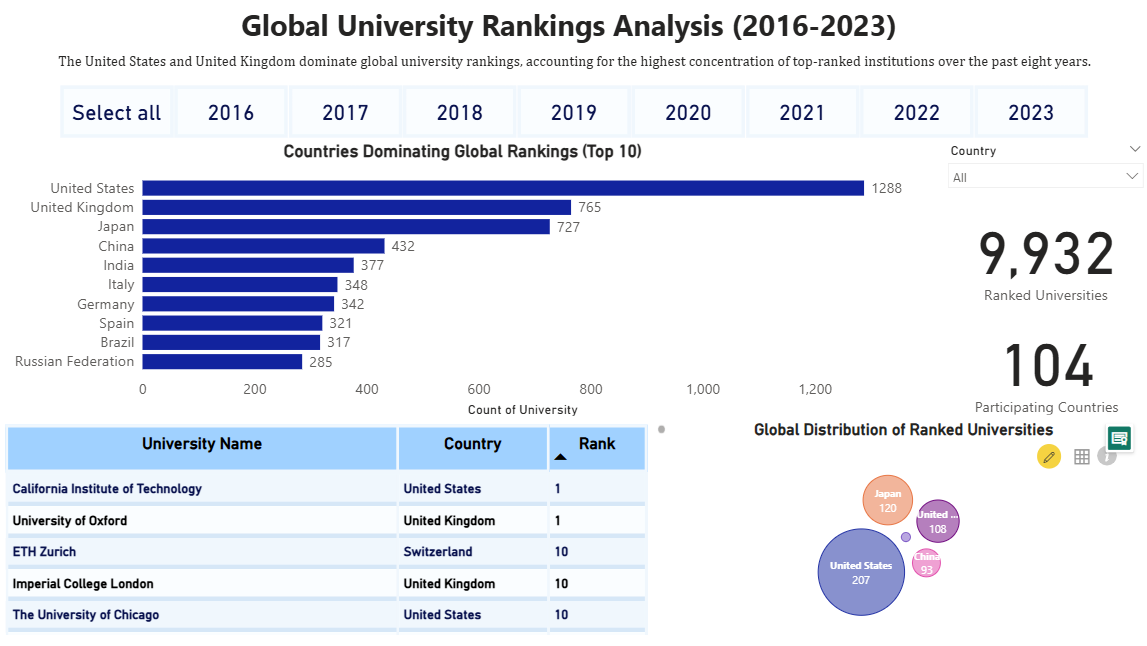

The page's visual inventory and layout, read from the dashboard file:
{"tool":"powerbi","page":{"name":"Overview","canvas":[1280,720],"ordinal":1},"visuals":[{"type":"advancedSlicerVisual","fields":{"Values":["CLEANED DATA.year"]},"box":[52.5,74.8,1173.9,98.6],"z":0},{"type":"tableEx","fields":{"Values":["CLEANED DATA.name","CLEANED DATA.location","CLEANED DATA.rank"]},"box":[0,466,744.4,243.4],"z":1000},{"type":"card","fields":{"Values":["CLEANED DATA.Ranked Universities"]},"box":[1043.4,216.3,237,130.4],"z":2000},{"type":"card","fields":{"Values":["CLEANED DATA.Participating Countries"]},"box":[1045,346.8,235.4,119.3],"z":3000},{"type":"slicer","fields":{"Values":["CLEANED DATA.location"]},"box":[1043.4,152.7,237,63.6],"z":4000},{"type":"clusteredBarChart","title":"Countries Dominating Global Rankings (Top 10)","fields":{"Category":["CLEANED DATA.location"],"Y":["CountNonNull(CLEANED DATA.name)"]},"box":[0,155.9,1027.5,310.2],"z":5000},{"type":"textbox","box":[0,54.1,1280.4,39.8],"z":6000},{"type":"packedBubble563FBEFA65CC43A48496B6BB533D9890","title":"Global Distribution of Ranked Universities","fields":{"category":["CLEANED DATA.location"],"measure":["Count(CLEANED DATA.name)"]},"box":[744.4,466,518.5,243.4],"z":7000},{"type":"textbox","box":[0,0,1264.5,54.1],"z":8000}]}

Visuals, with their boxes in screenshot pixels (x1, y1, x2, y2), scaled from the page's 1280x720 canvas onto the 1147x646 screenshot:
advancedSlicerVisual - CLEANED DATA.year: [x1=47, y1=67, x2=1099, y2=156]
tableEx - CLEANED DATA.name x CLEANED DATA.location: [x1=0, y1=418, x2=667, y2=636]
card - CLEANED DATA.Ranked Universities: [x1=935, y1=194, x2=1146, y2=311]
card - CLEANED DATA.Participating Countries: [x1=936, y1=311, x2=1146, y2=418]
slicer - CLEANED DATA.location: [x1=935, y1=137, x2=1146, y2=194]
"Countries Dominating Global Rankings (Top 10)" clusteredBarChart: [x1=0, y1=140, x2=921, y2=418]
textbox: [x1=0, y1=49, x2=1146, y2=84]
"Global Distribution of Ranked Universities" packedBubble563FBEFA65CC43A48496B6BB533D9890: [x1=667, y1=418, x2=1132, y2=636]
textbox: [x1=0, y1=0, x2=1133, y2=49]
